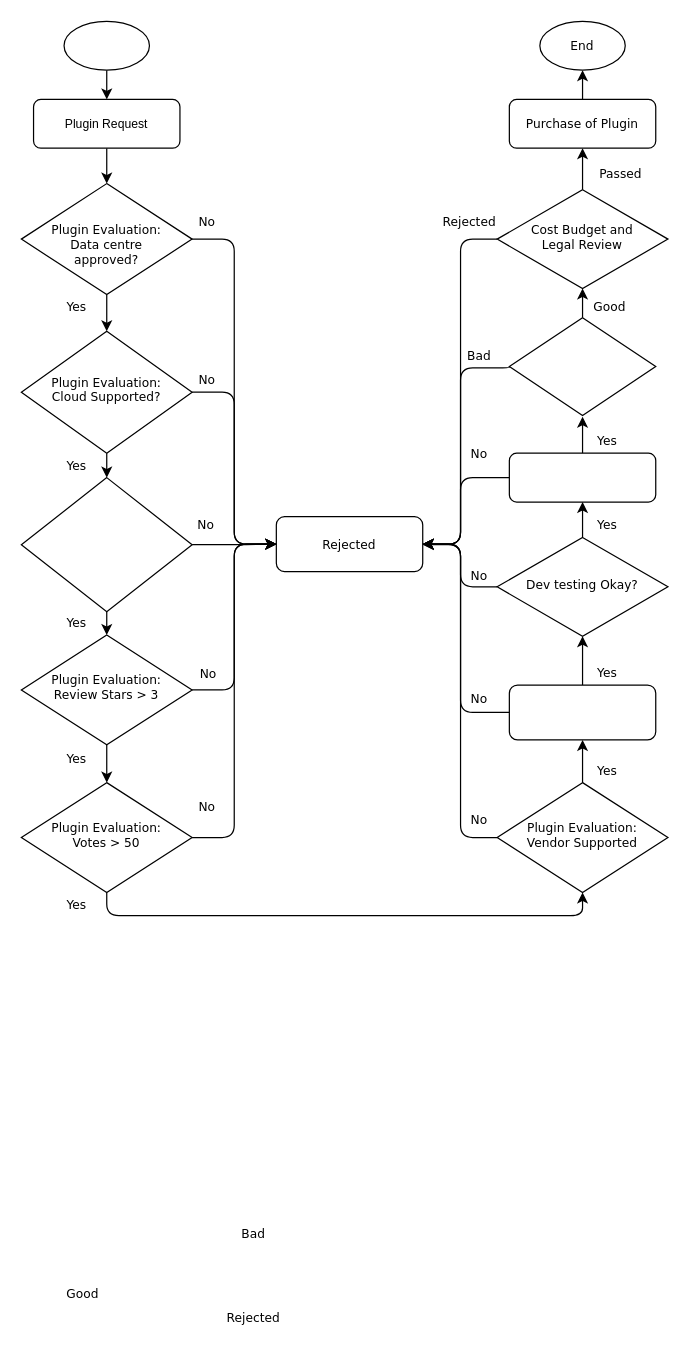
This 689x1352 diagram has some shape labels left out. Each missing label, with the centre of its shape:
Get Tenants Feedback: the point at 582,366
Install Trial Version > 1 month: the point at 582,477
Plugin Evaluation: Atlassian Endorsed as Trusted Partner?: the point at 106,544
Plugin Installed and Tested in Dev Env: the point at 582,712
Start: the point at 106,45
